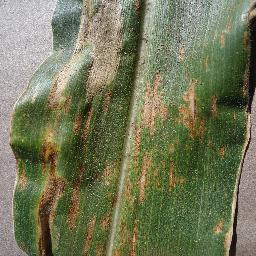Gray_Leaf_Spot: (71, 0, 128, 76), (243, 2, 256, 124), (34, 200, 61, 256), (134, 92, 166, 133), (38, 116, 59, 175), (43, 76, 71, 115), (174, 110, 203, 142), (69, 177, 84, 231), (43, 174, 68, 201), (224, 214, 240, 256), (148, 66, 168, 99), (86, 73, 117, 93), (12, 161, 28, 194), (83, 212, 95, 256), (176, 98, 203, 117), (171, 153, 184, 192), (126, 220, 139, 256), (125, 177, 141, 205), (82, 106, 93, 144), (153, 154, 164, 191), (98, 205, 112, 232), (128, 133, 139, 167), (139, 164, 148, 205), (84, 83, 98, 108), (139, 147, 154, 170), (101, 92, 115, 116), (69, 111, 81, 138), (185, 77, 201, 97), (103, 159, 120, 177), (76, 166, 101, 178), (230, 186, 244, 207), (211, 96, 221, 122), (222, 14, 236, 32), (132, 0, 144, 18), (54, 63, 69, 77), (104, 189, 117, 205), (177, 40, 188, 58), (119, 219, 125, 252), (214, 218, 225, 235), (215, 34, 226, 50), (95, 243, 107, 256), (103, 176, 117, 186), (205, 55, 211, 78), (237, 166, 245, 183), (82, 142, 90, 159), (220, 145, 228, 160), (241, 148, 248, 164), (167, 144, 178, 154), (111, 245, 119, 256), (246, 124, 251, 141), (232, 113, 240, 121), (208, 138, 212, 153), (139, 58, 146, 65), (238, 132, 240, 139), (138, 229, 143, 231)
